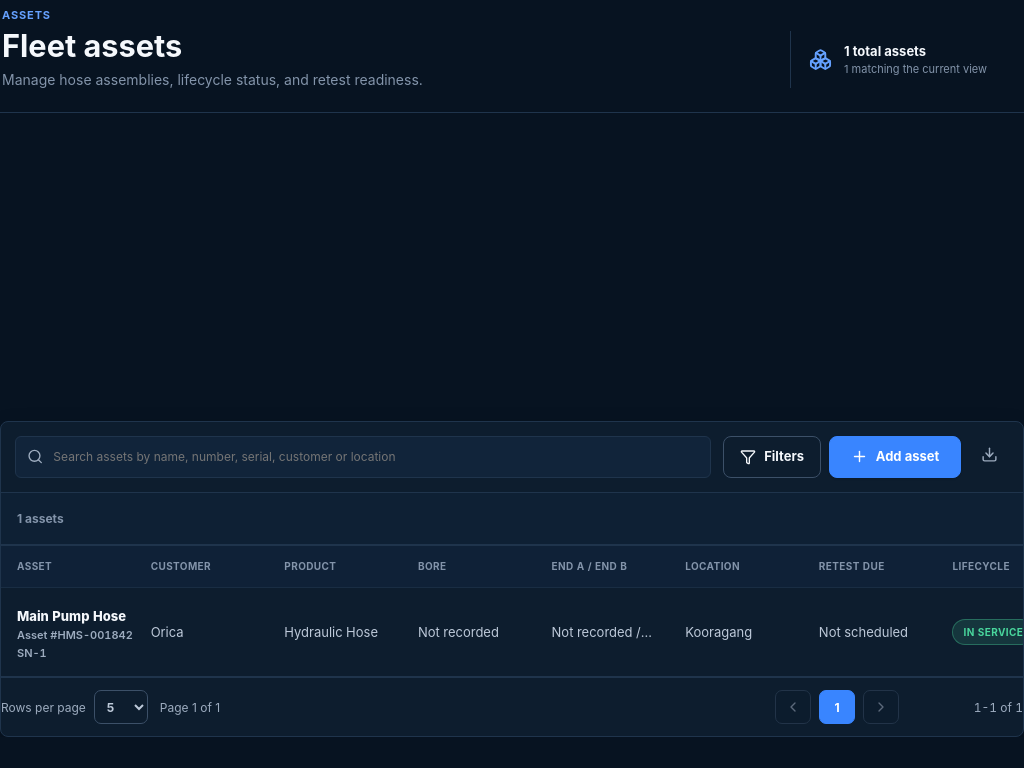
Scenario: Asset form › turns a server fault into a safe message and keeps the values
Expected: the text "Main Pump Hose" is shown, left=17, top=608, right=126, bottom=624
Click the button "Add asset".
click(895, 456)  # box left=829, top=436, right=961, bottom=478
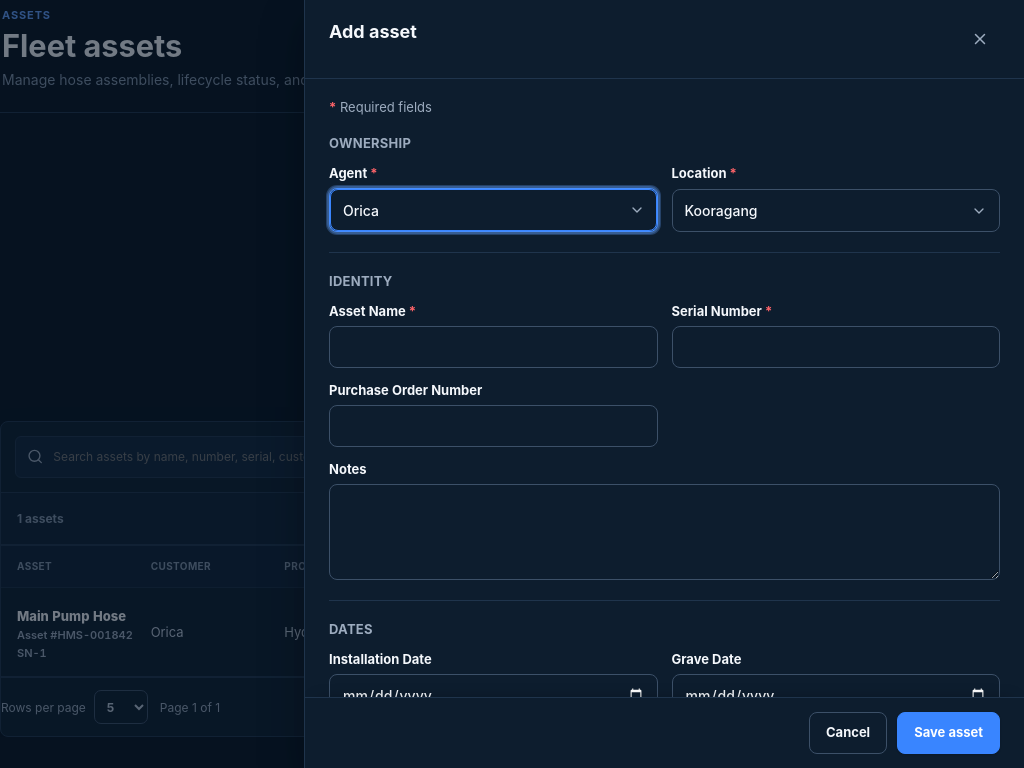
Now the heading "Add asset" is shown, box left=329, top=20, right=417, bottom=43
Type "Boom Hose" into the field labelled "Asset Name".
click(493, 347); type("Boom Hose")  # box left=329, top=326, right=658, bottom=368
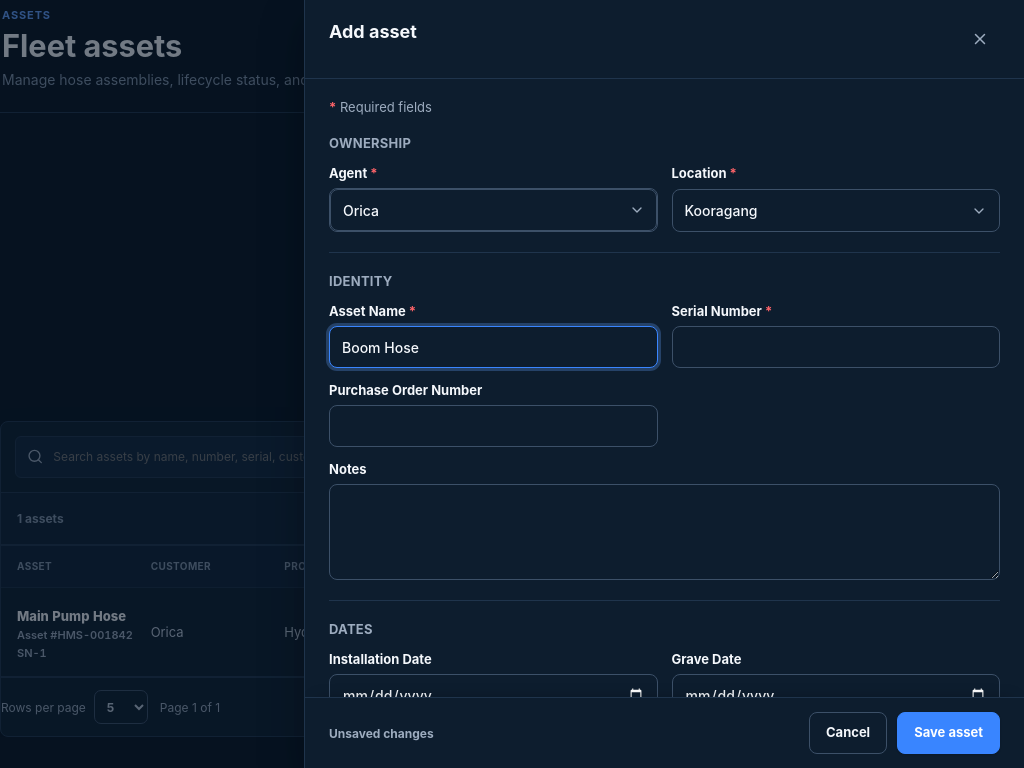
Type "SN-77" into the field labelled "Serial Number".
click(836, 347); type("SN-77")  # box left=672, top=326, right=1000, bottom=368
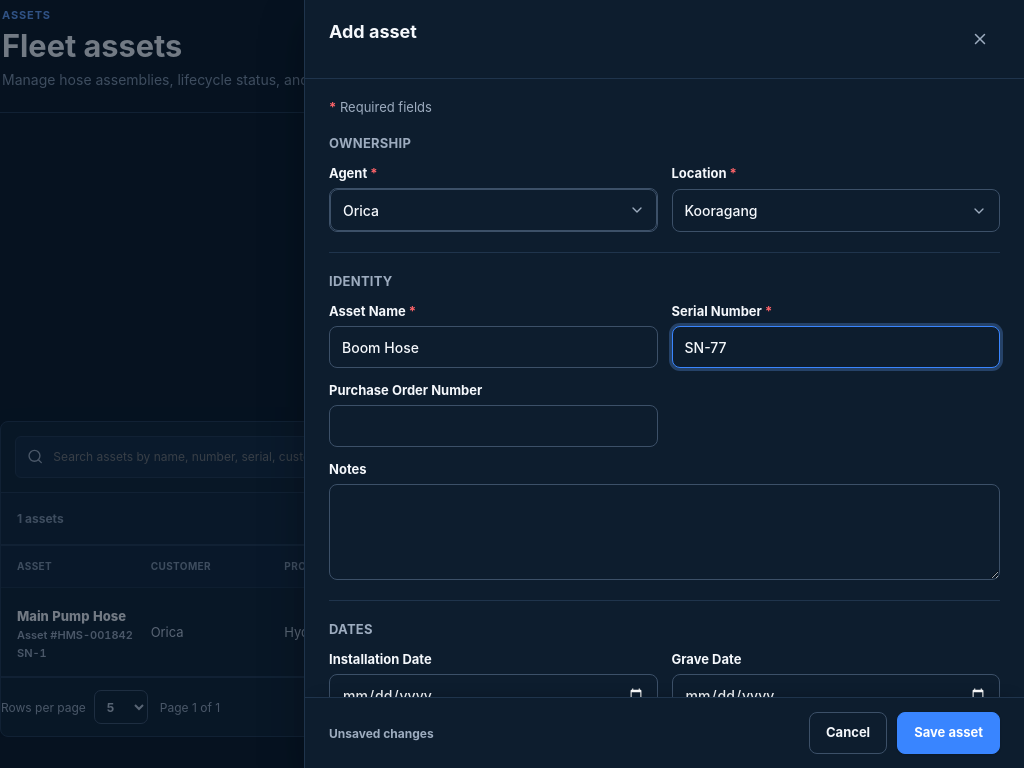
Click the button "Save asset".
click(949, 733)  # box left=897, top=712, right=1000, bottom=754
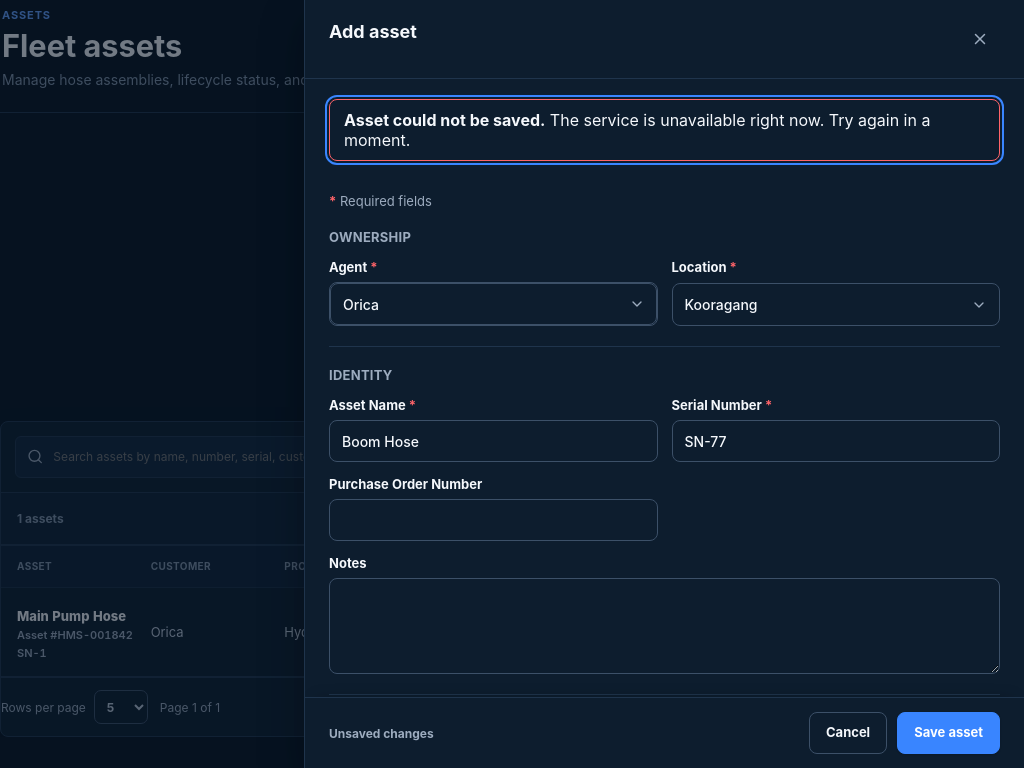
Now the message shows "service is unavailable", box left=344, top=110, right=930, bottom=150
